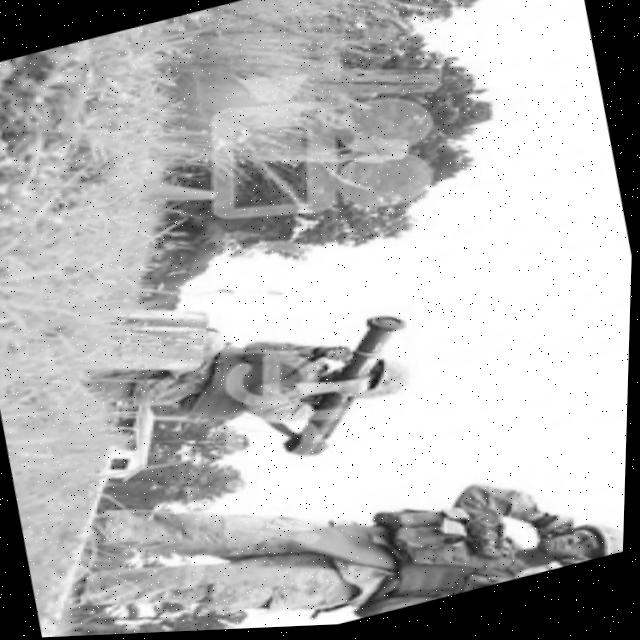rocket: (247, 292, 440, 484)
